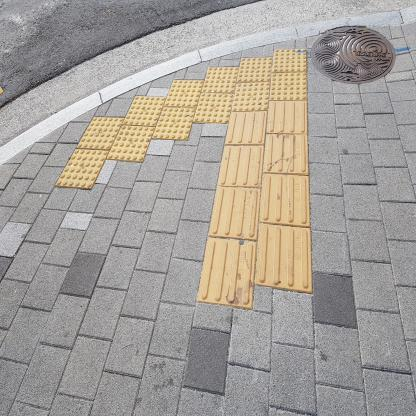podotacti: (51, 44, 315, 314)
